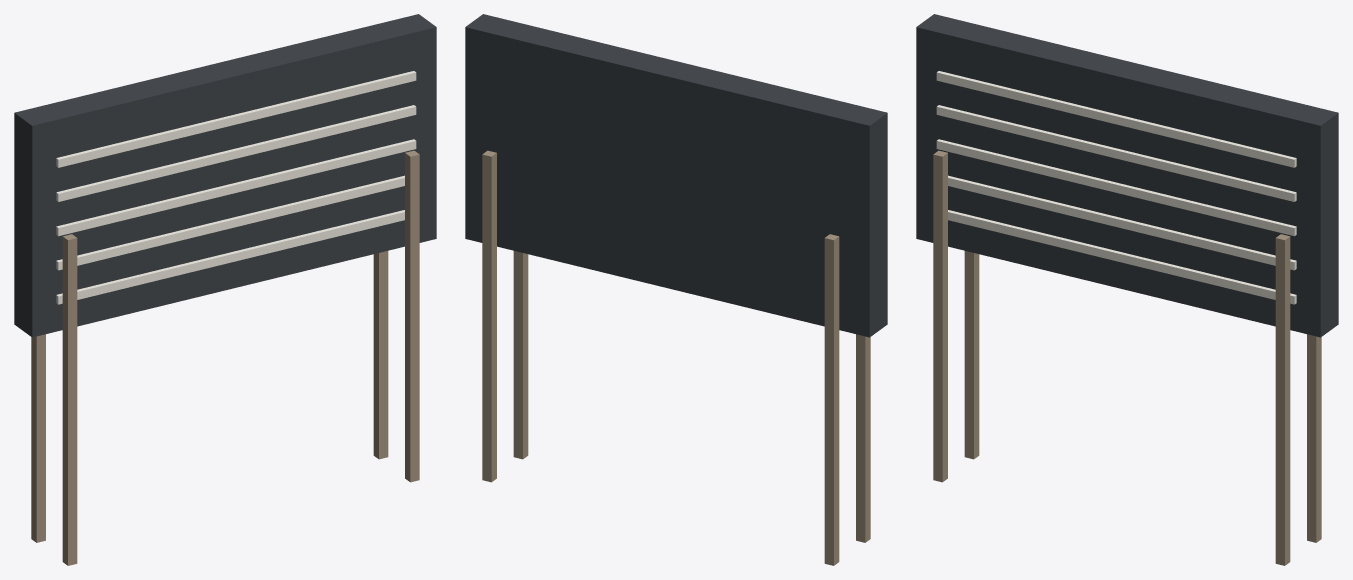
File: stock-car-oval-speedway-scoreboard-59878e0e__16933.glb
3 renders of one model, left to right at view 1: azimuth 30°, elevation 25°; view 2: azimuth 150°, elevation 25°; view 3: azimuth 330°, elevation 25°, orthographic.
Visible parts, largest first — view 1: scoreboard; view 2: scoreboard; view 3: scoreboard.
Boxes of the visible parts, x1,y1,x2,y2 form: scoreboard: [14, 14, 436, 565]; scoreboard: [465, 14, 887, 565]; scoreboard: [916, 14, 1338, 565].
Bounding box in the file's own units: 2.6 × 2.7 × 0.41.
